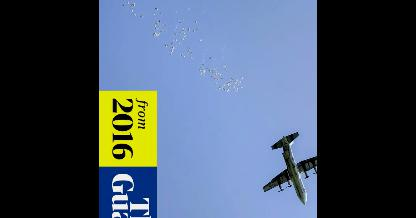Be200: (263, 129, 316, 204)
